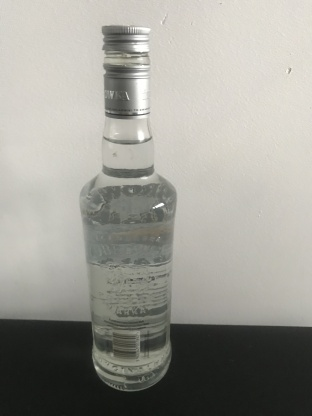nakretka: (100, 23, 151, 119)
